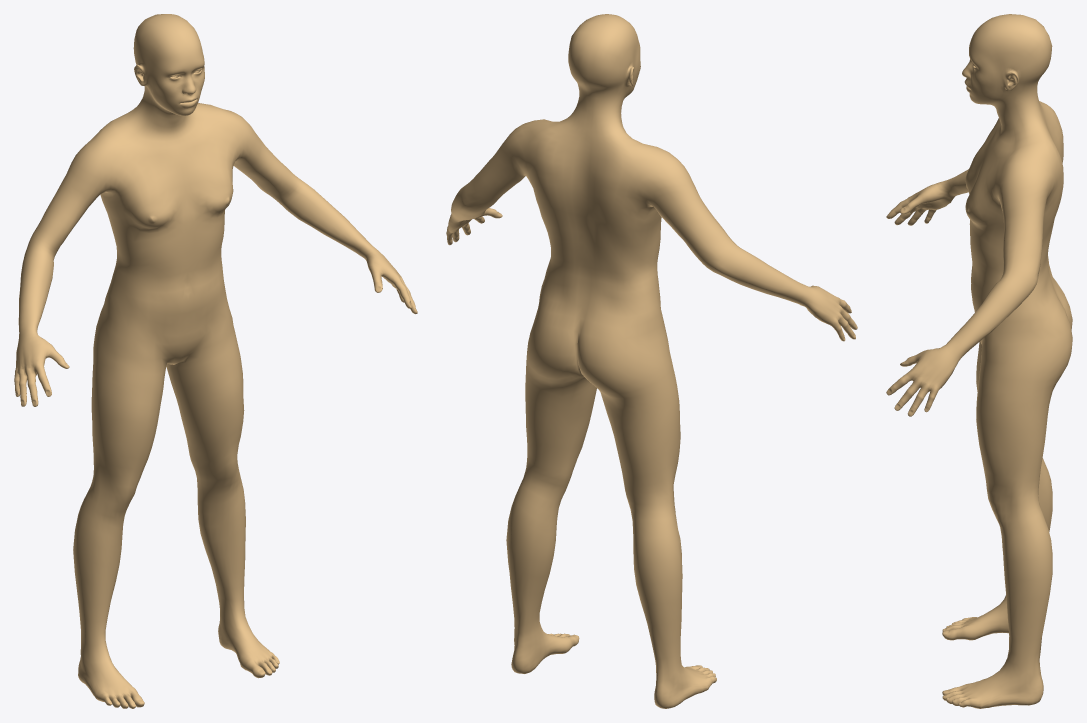
3 renders of one model, left to right at view 1: azimuth 30°, elevation 25°; view 2: azimuth 150°, elevation 25°; view 3: azimuth 270°, elevation 25°, orthographic.
Parts seen in each view (by area): view 1: Human; view 2: Human; view 3: Human.
Boxes of the visible parts, x1=… form: Human: x1=14, y1=14, x2=417, y2=708; Human: x1=446, y1=14, x2=857, y2=708; Human: x1=886, y1=14, x2=1072, y2=708.
Size of the model in its own units: 1.08 by 1.71 by 0.4426.
